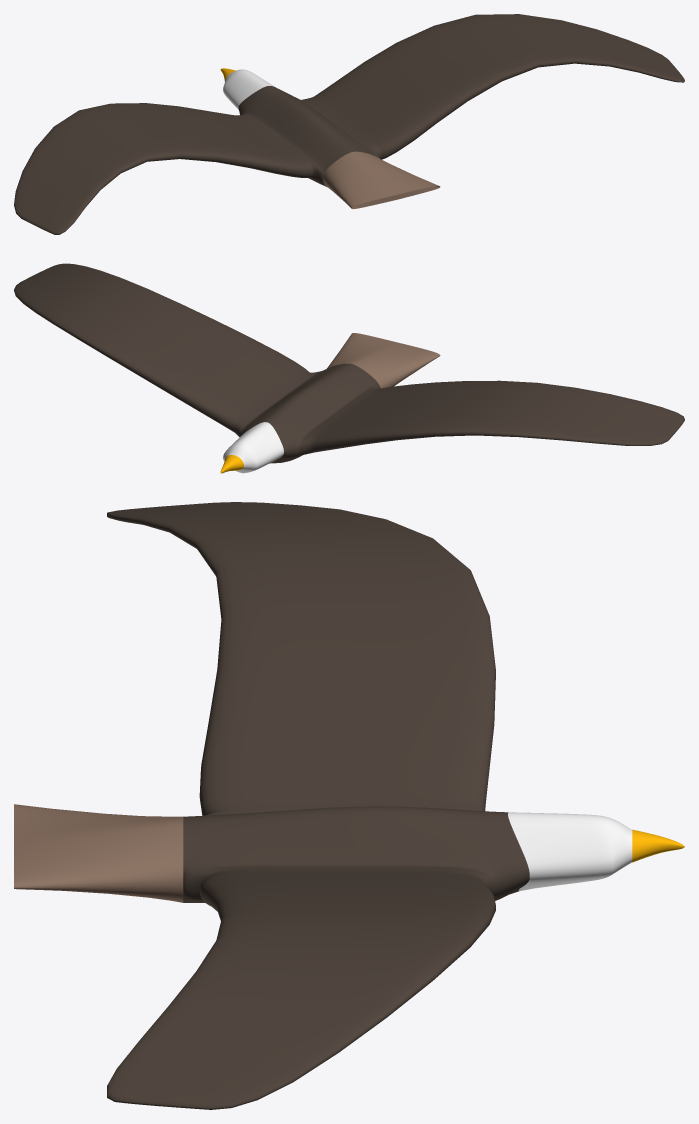
File: wind_eagle.gltf
3 renders of one model, top to bottom at view 1: azimuth 30°, elevation 25°; view 2: azimuth 150°, elevation 25°; view 3: azimuth 270°, elevation 25°, orthographic. The views are drawn at different scales.
Visible parts, largest first — view 1: node-0; view 2: node-0; view 3: node-0.
Part boxes in pixels (x1=…): node-0: x1=14, y1=14, x2=684, y2=234; node-0: x1=14, y1=263, x2=684, y2=473; node-0: x1=14, y1=502, x2=684, y2=1109.
Size of the model in its own units: 260 by 32.16 by 122.
